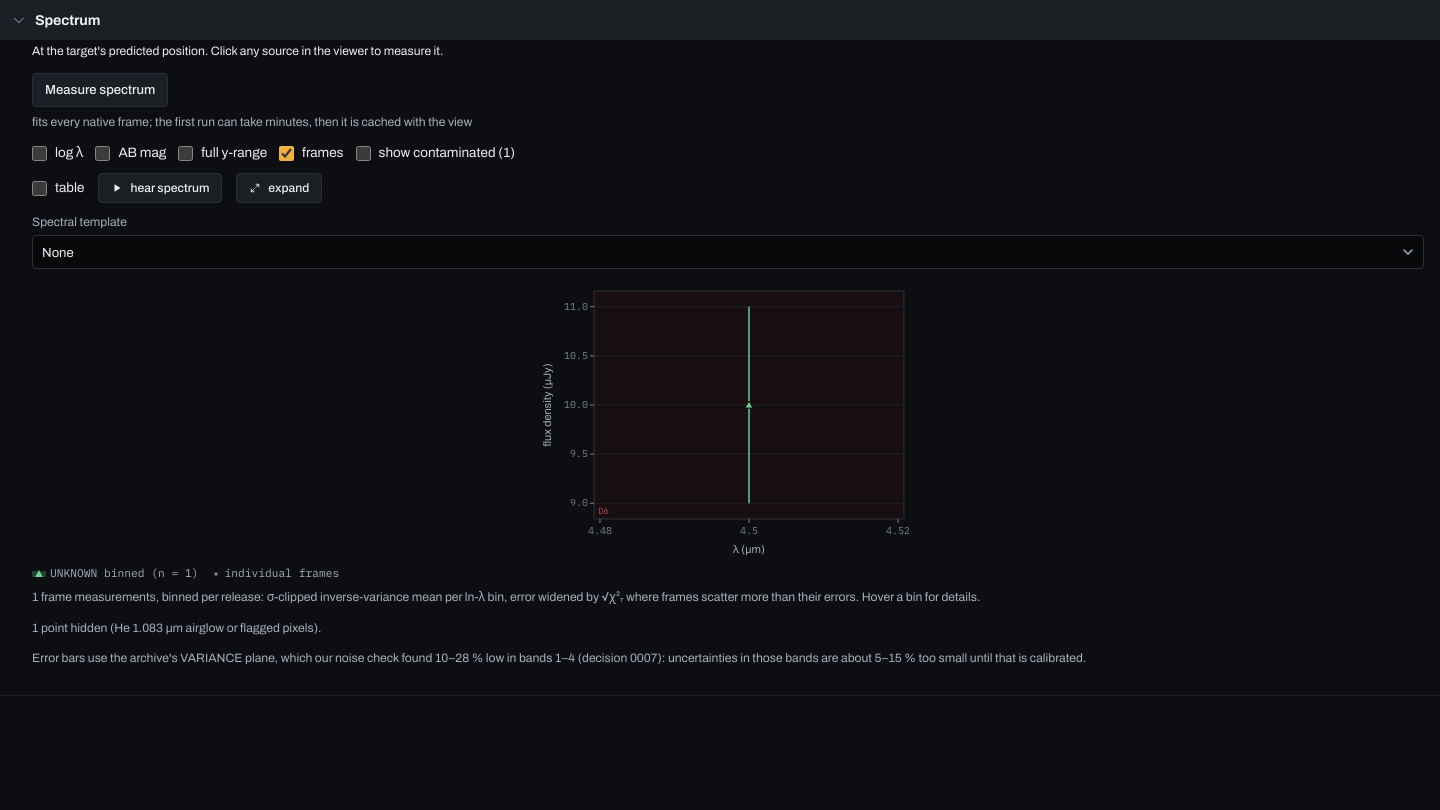
keeps SOURCE-only science and displays separately scaled template provenance
Expected: the text "show contaminated (1)" is shown, left=356, top=143, right=515, bottom=163
Select "500 K: V2 / qr2" in the dropdown labelled "Spectral template" at [728, 252], box left=32, top=236, right=1424, bottom=270
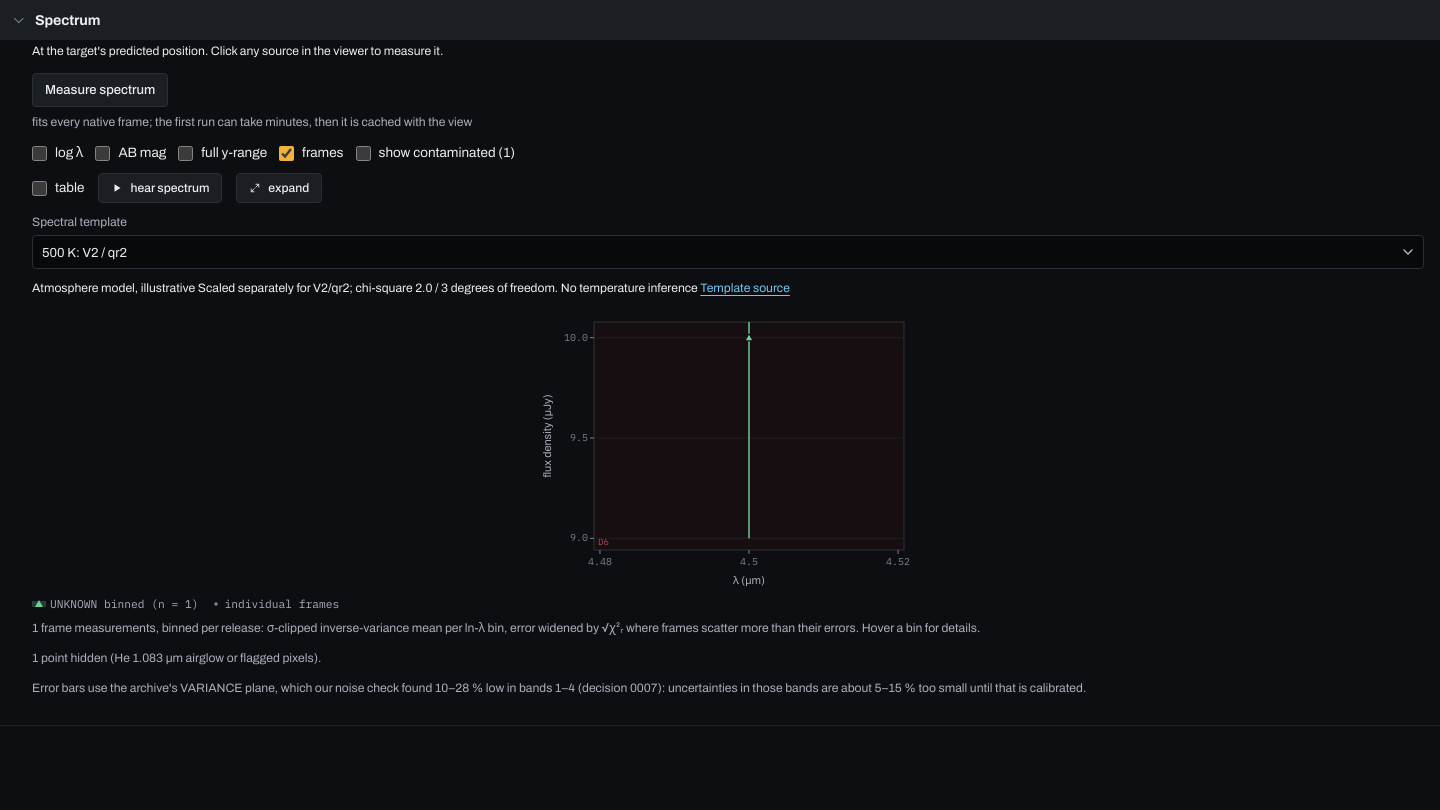
Now the text "Atmosphere model, illustrative" is shown, box left=32, top=282, right=195, bottom=296
